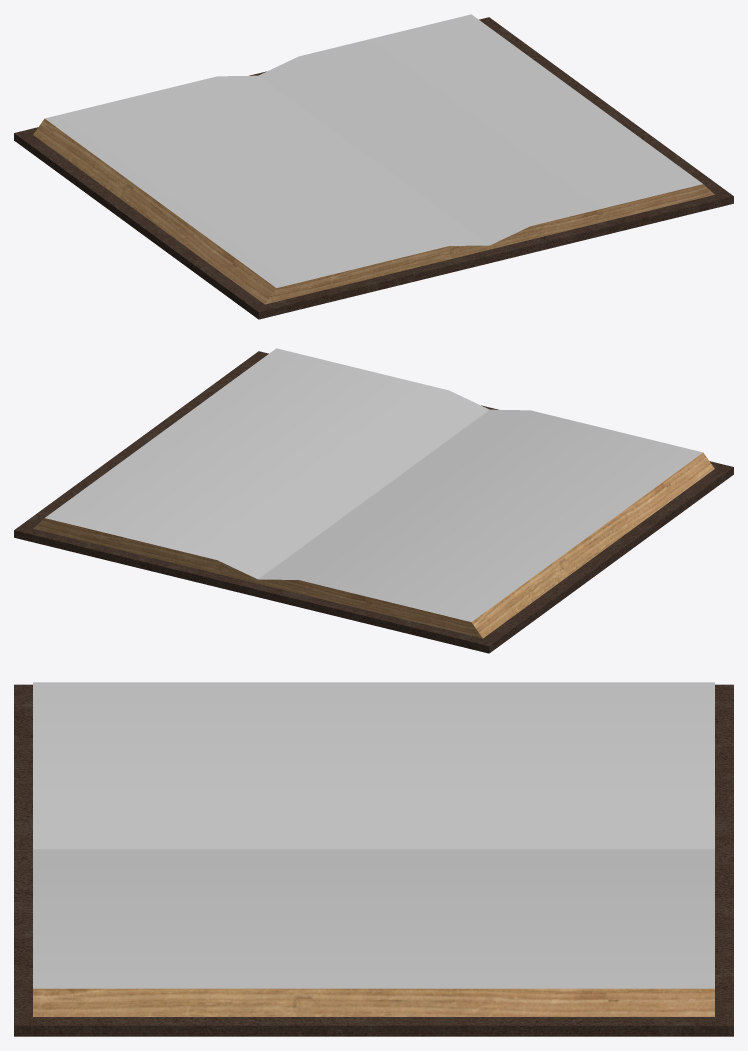
The model's file is Diary_Bool.FBX.
3 views of the same model, one above another, from view 1: azimuth 30°, elevation 25°; view 2: azimuth 150°, elevation 25°; view 3: azimuth 270°, elevation 25° (orthographic). The views are drawn at different scales.
Parts seen in each view (by area): view 1: Page_HP, Box556; view 2: Page_HP, Box556; view 3: Page_HP, Box556.
Boxes of the visible parts, box(x1,y1,x2,y2) form: Page_HP: box(45, 14, 702, 287); Box556: box(14, 17, 733, 319); Page_HP: box(45, 348, 702, 621); Box556: box(14, 351, 733, 653); Page_HP: box(33, 682, 714, 988); Box556: box(14, 684, 733, 1036).
Size of the model in its own units: 123 by 5.15 by 110.
